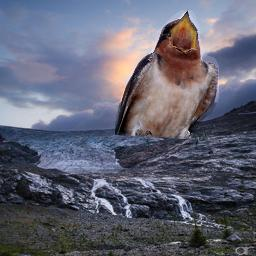Swallow: (115, 10, 219, 148)
